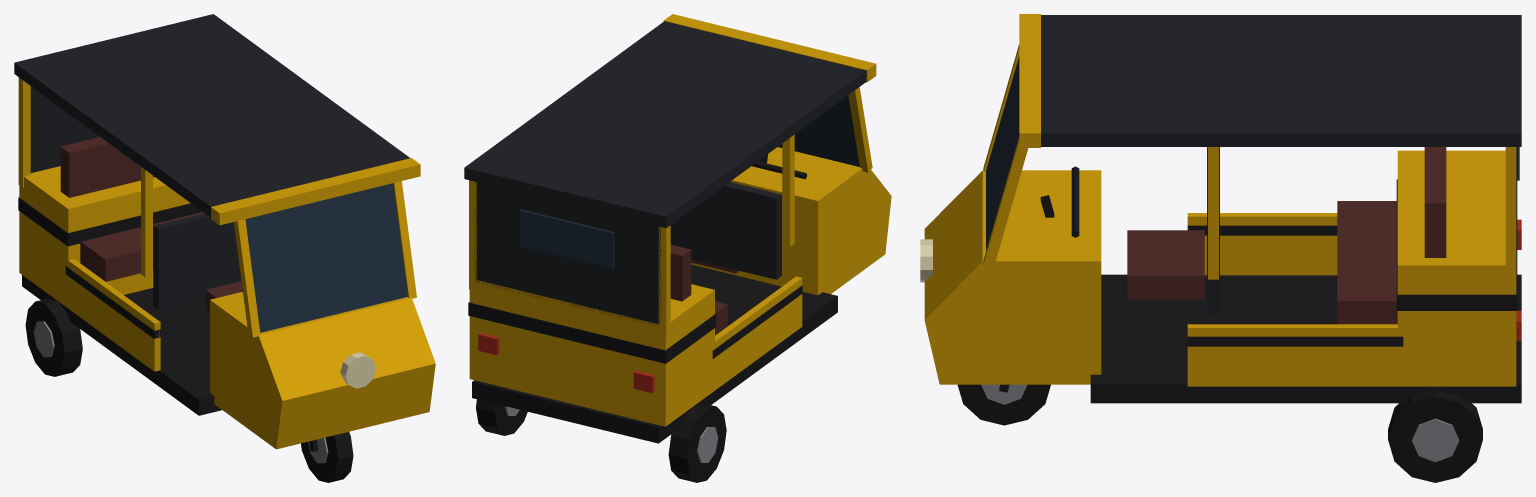
File: veh_keke.glb
3 views of the same model, side by side, from view 1: azimuth 30°, elevation 25°; view 2: azimuth 150°, elevation 25°; view 3: azimuth 270°, elevation 25° (orthographic). The views are drawn at different scales.
Visible parts, largest first — view 1: body; view 2: body; view 3: body.
Part boxes in pixels (left/top/right/bottom): body: left=14, top=14, right=435, bottom=482; body: left=464, top=14, right=891, bottom=482; body: left=920, top=14, right=1521, bottom=482.
Bounding box in the file's own units: 1.38 × 1.78 × 2.79.
